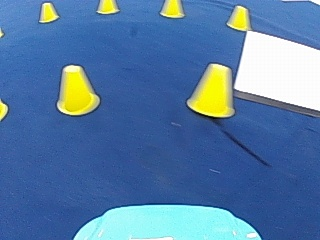cone: (187, 62, 235, 117), (55, 64, 98, 115), (226, 4, 251, 30), (38, 2, 58, 23), (160, 0, 183, 17), (97, 0, 117, 14)
